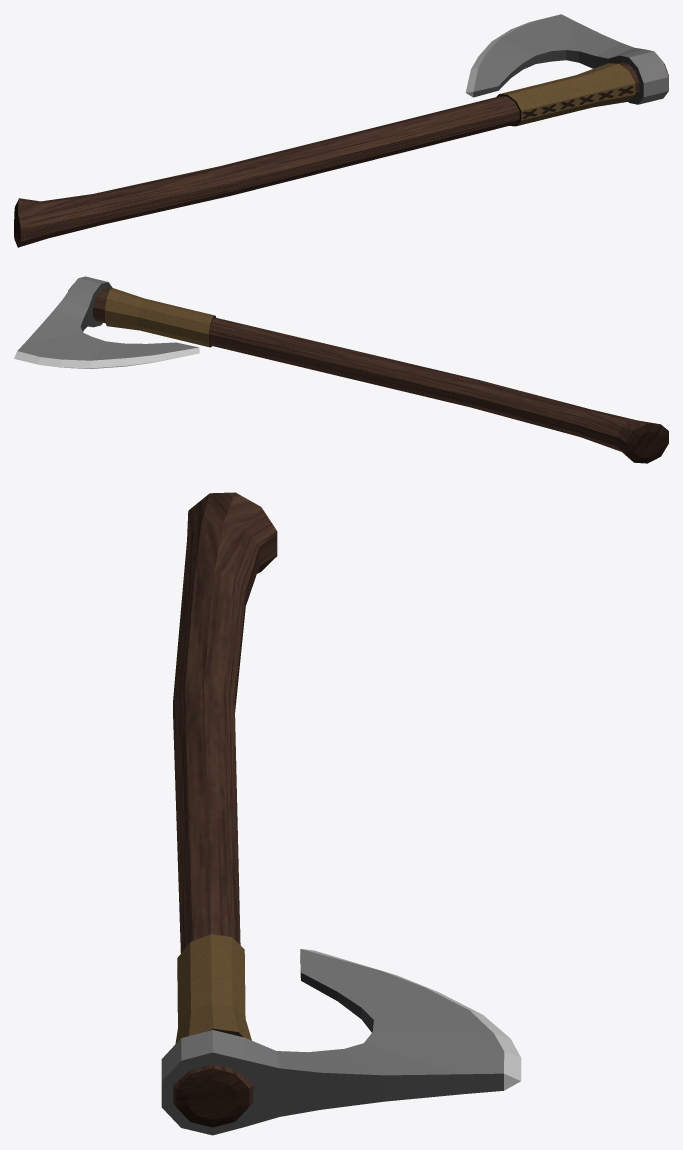
The model's file is WorldItem_BeardedAxe.fbx.
3 renders of one model, top to bottom at view 1: azimuth 30°, elevation 25°; view 2: azimuth 150°, elevation 25°; view 3: azimuth 270°, elevation 25°, orthographic. The views are drawn at different scales.
Parts seen in each view (by area): view 1: ZomboidBeardedAxe; view 2: ZomboidBeardedAxe; view 3: ZomboidBeardedAxe.
Part boxes in pixels (box(x1,y1,x2,y2)): ZomboidBeardedAxe: box(14, 14, 668, 247); ZomboidBeardedAxe: box(14, 276, 668, 463); ZomboidBeardedAxe: box(161, 492, 521, 1135).
Size of the model in its own units: 0.6689 by 0.0449 by 0.1763.
